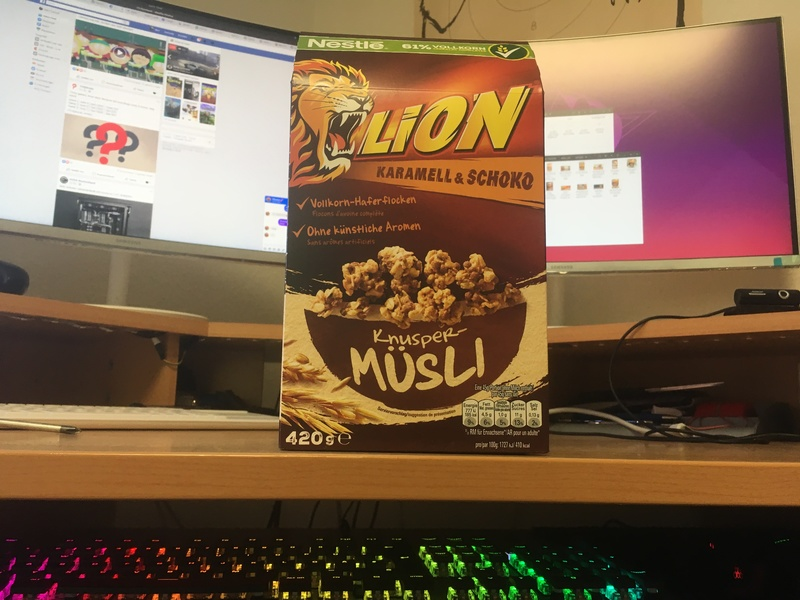cereals: (277, 34, 549, 450)
